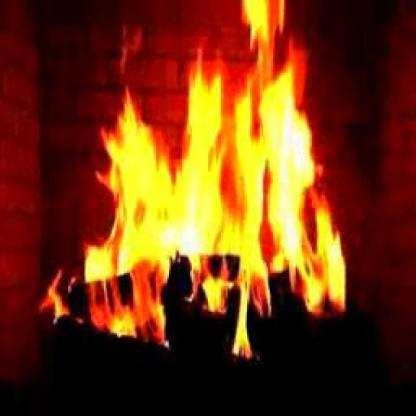fire: (34, 0, 353, 372)
